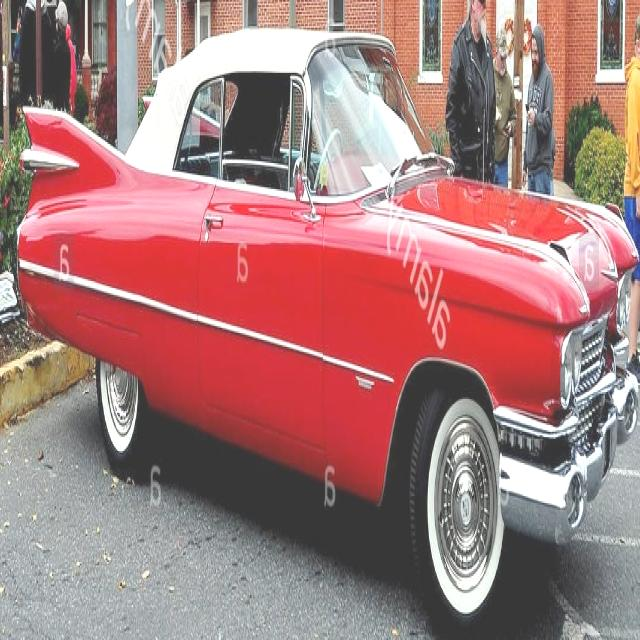red: (0, 12, 631, 520)
